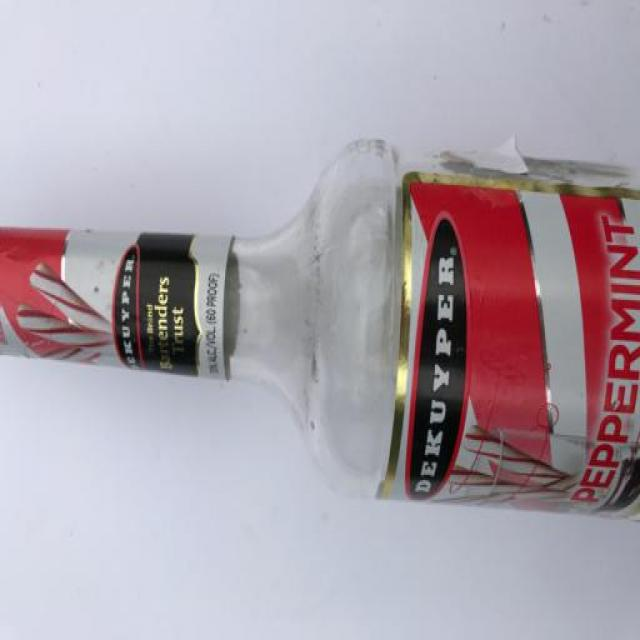glass: (7, 116, 640, 572)
